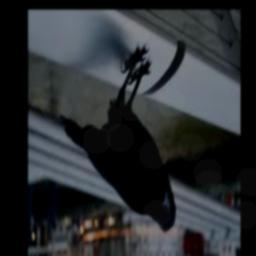Crow: (59, 46, 175, 231)
